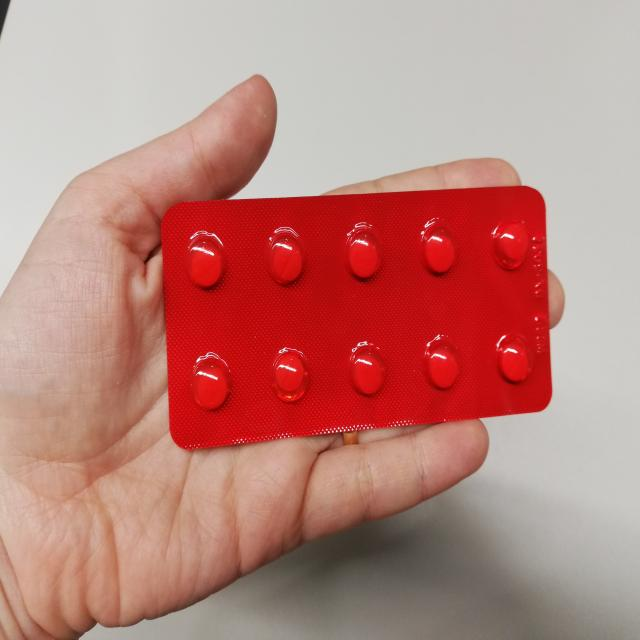Pill: (183, 341, 244, 422), (329, 213, 385, 291), (407, 213, 465, 287), (261, 339, 318, 413), (481, 209, 542, 278), (416, 333, 474, 404), (175, 228, 232, 300), (260, 220, 310, 300), (485, 320, 539, 391), (343, 341, 393, 404)
